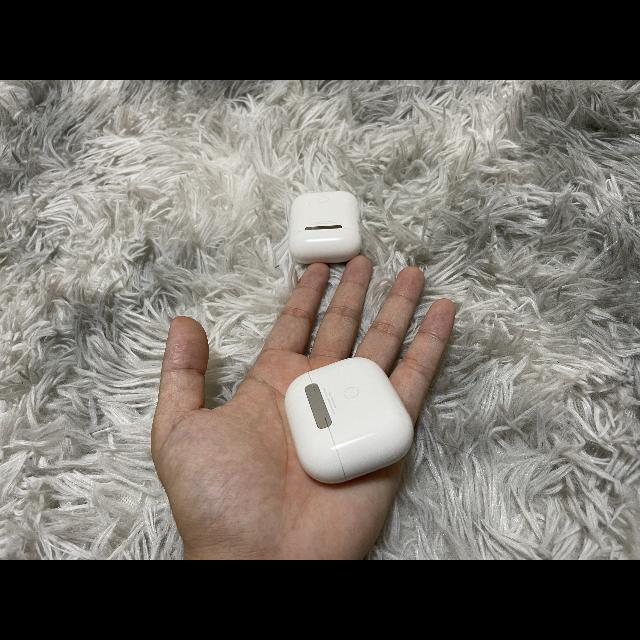airpod2: (282, 188, 370, 268)
airpod3: (280, 352, 420, 486)
